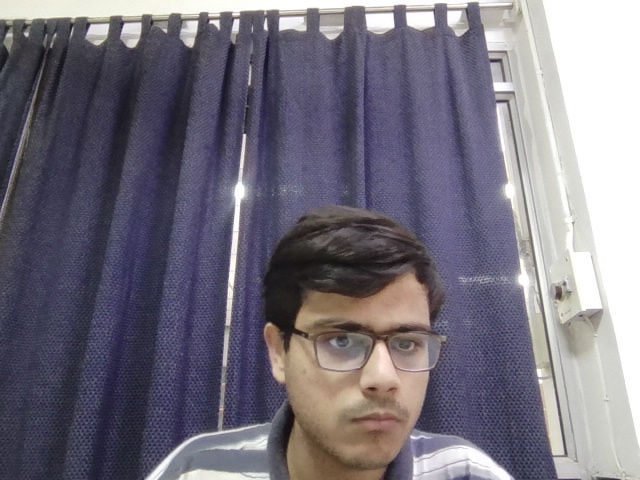face: (262, 204, 443, 473)
